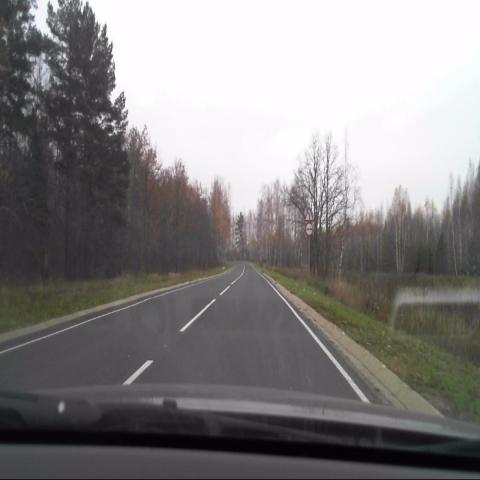1_11_1: (305, 207, 313, 222)
3_20: (305, 224, 313, 236)
